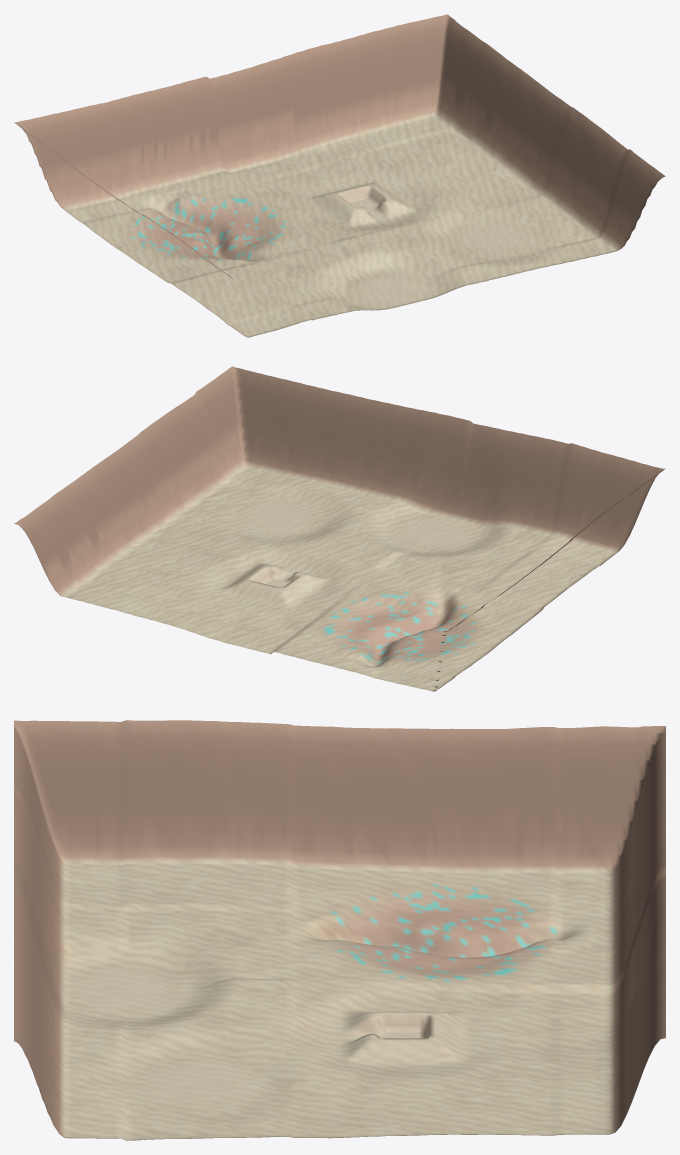
File: terrain.glb
3 views of the same model, one above another, from view 1: azimuth 30°, elevation 25°; view 2: azimuth 150°, elevation 25°; view 3: azimuth 270°, elevation 25° (orthographic). The views are drawn at different scales.
Visible parts, largest first — view 1: geometry_0; view 2: geometry_0; view 3: geometry_0.
Part boxes in pixels (bbox=[...]): geometry_0: bbox=[14, 14, 665, 337]; geometry_0: bbox=[14, 366, 665, 691]; geometry_0: bbox=[14, 720, 665, 1140].
Size of the model in its own units: 399 by 88.56 by 348.
